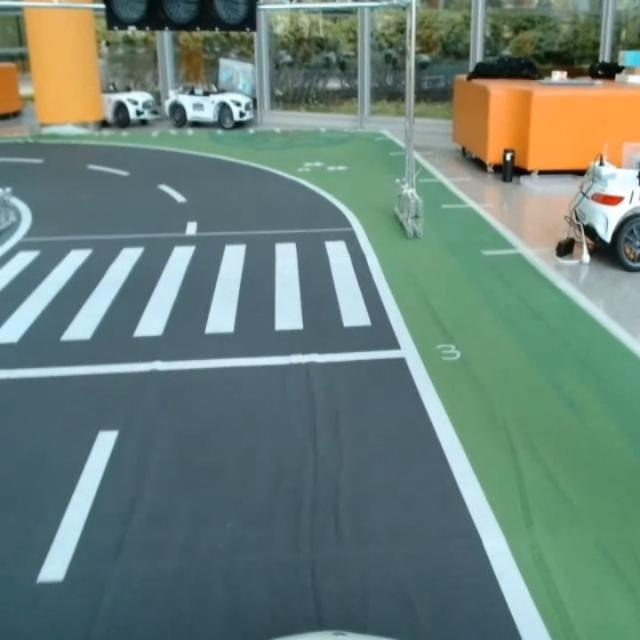traffic-light: (97, 0, 262, 33)
